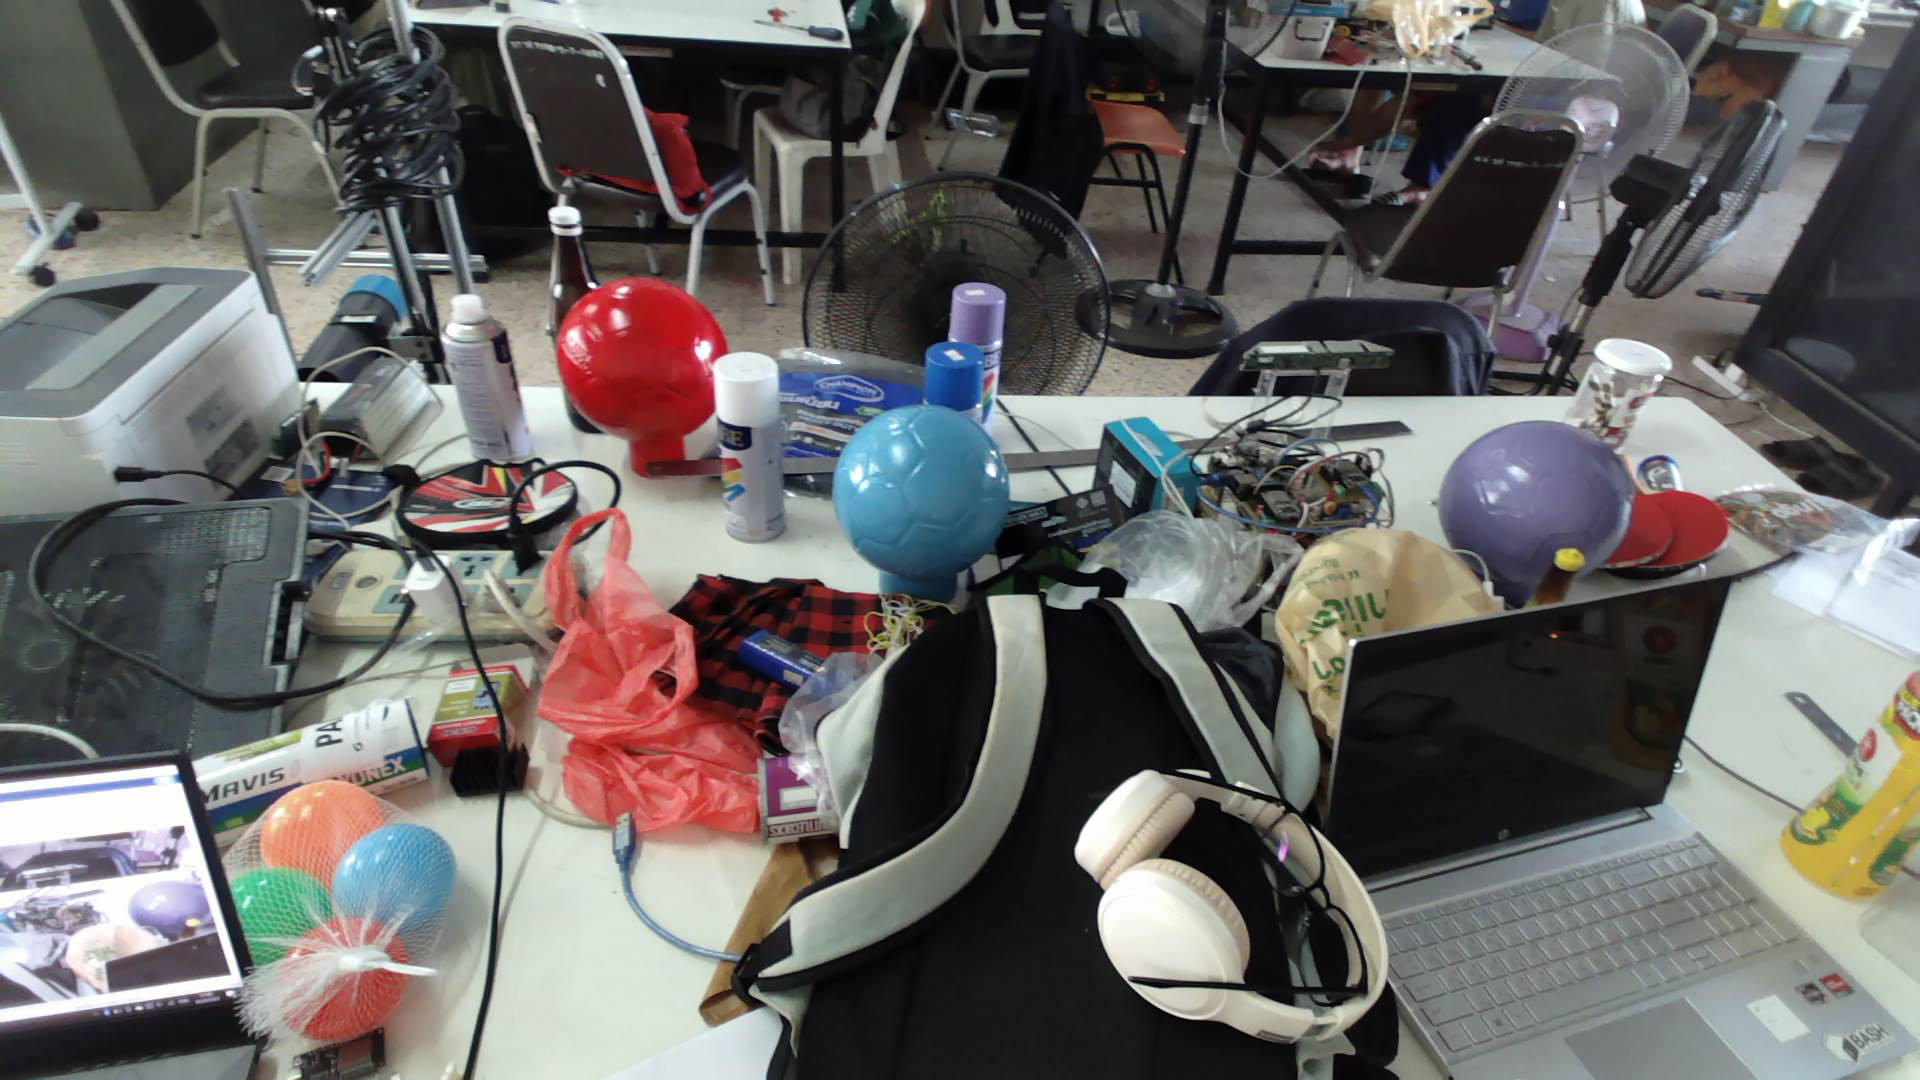Blue ball: (829, 404, 1013, 580)
Purple ball: (1435, 419, 1636, 593)
Red ball: (554, 274, 732, 448)
